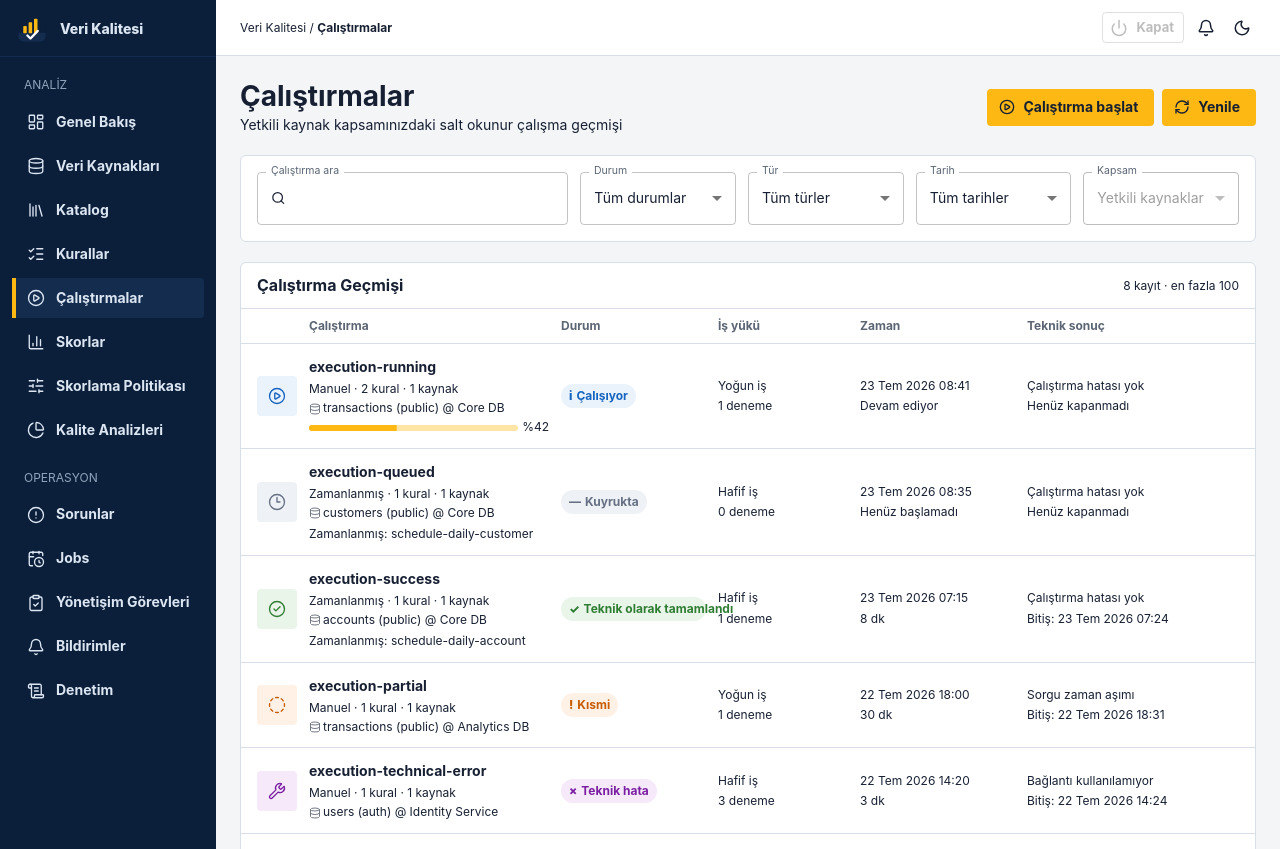
Test: Çalıştırmalar ekranı › başlatma dialog'u dropdown alanları ve otomatik idempotency anahtarı gösterir
Click the button "Çalıştırma başlat" at (1071, 107), box [988,89,1154,126]
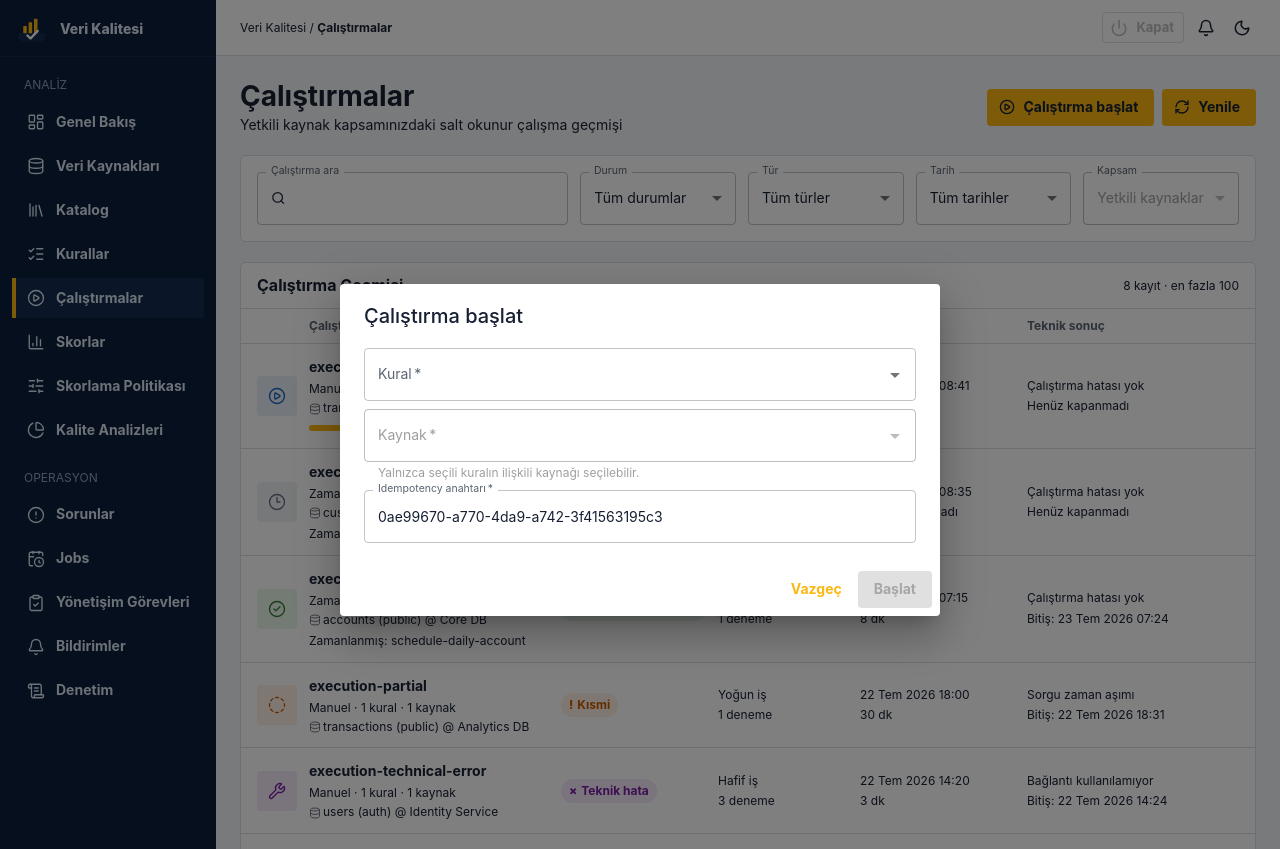
Check: the dropdown labelled "Kural *" is shown, box [373,357,877,392]
Check: the dropdown labelled "Kaynak *" is shown, box [373,418,877,453]
Check: the field labelled "Idempotency anahtarı *" is shown, box [364,490,916,543]
